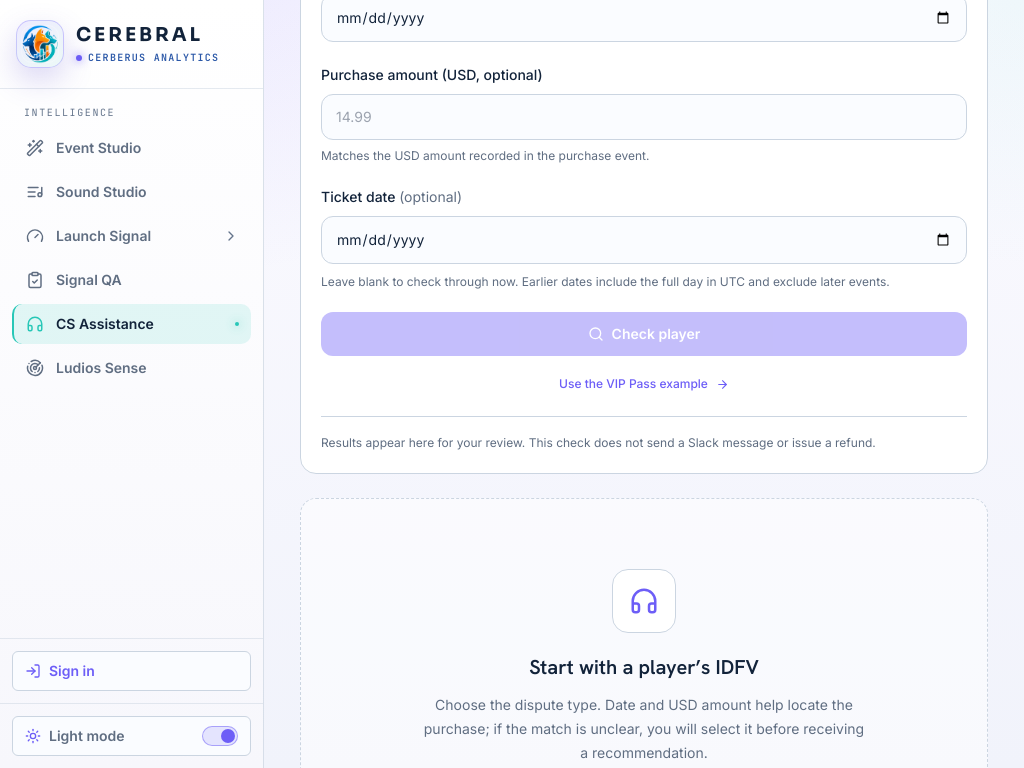
it: CS Assistance page › submits inputs, renders the recommendation, and switches to evidence and rules
The image size is (1024, 768).
(page scrolled)
Click the button "Use the VIP Pass example": (644, 384) [321,376,967,392]
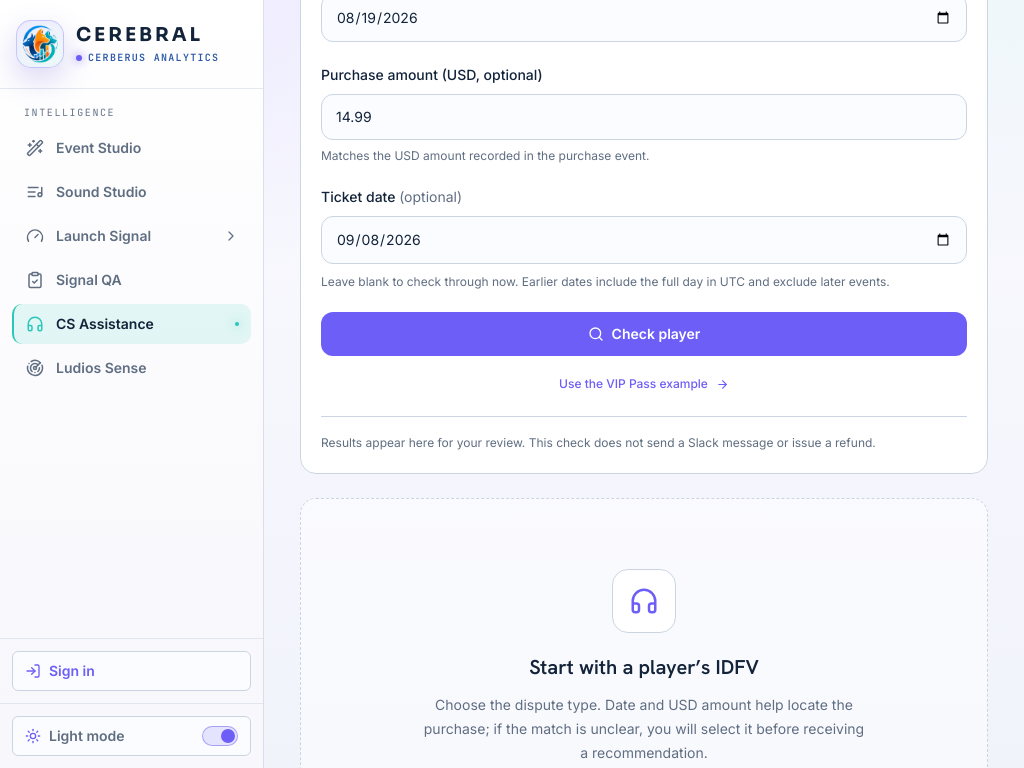
Click the button "Check player": (644, 334) [321,312,967,356]
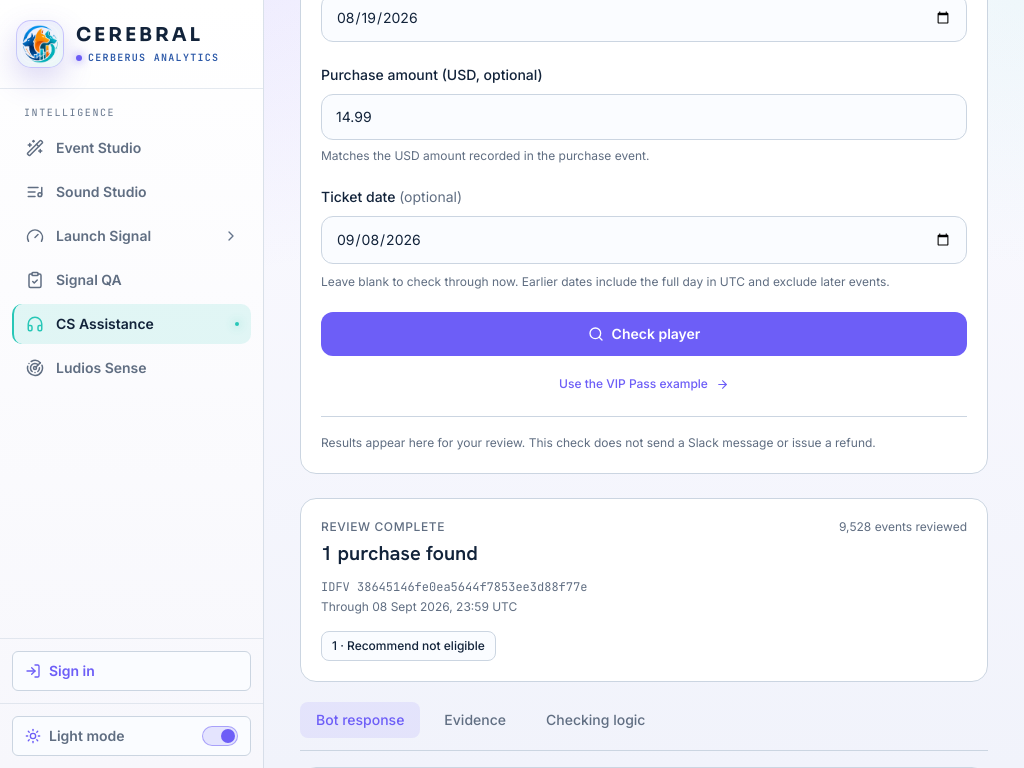
Check: the heading "1 purchase found" is shown, box [321,539,478,567]
Click the tab "Evidence": (475, 720) [428,702,522,738]
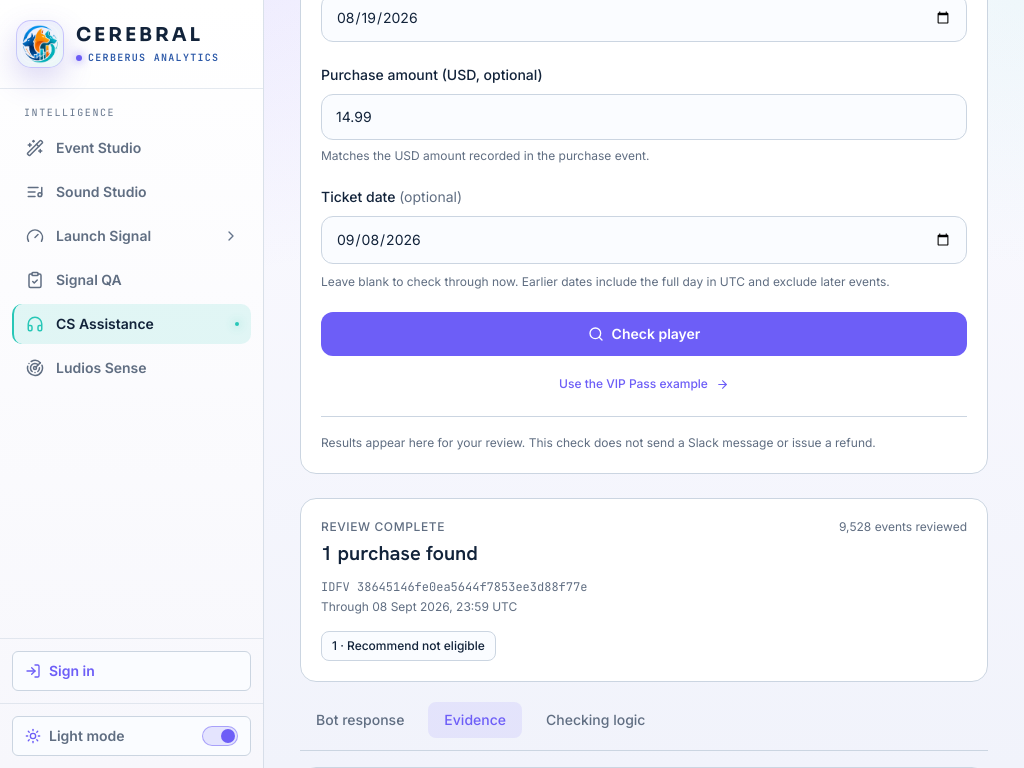
Click the tab "Checking logic": (596, 720) [530,702,662,738]
(page scrolled)
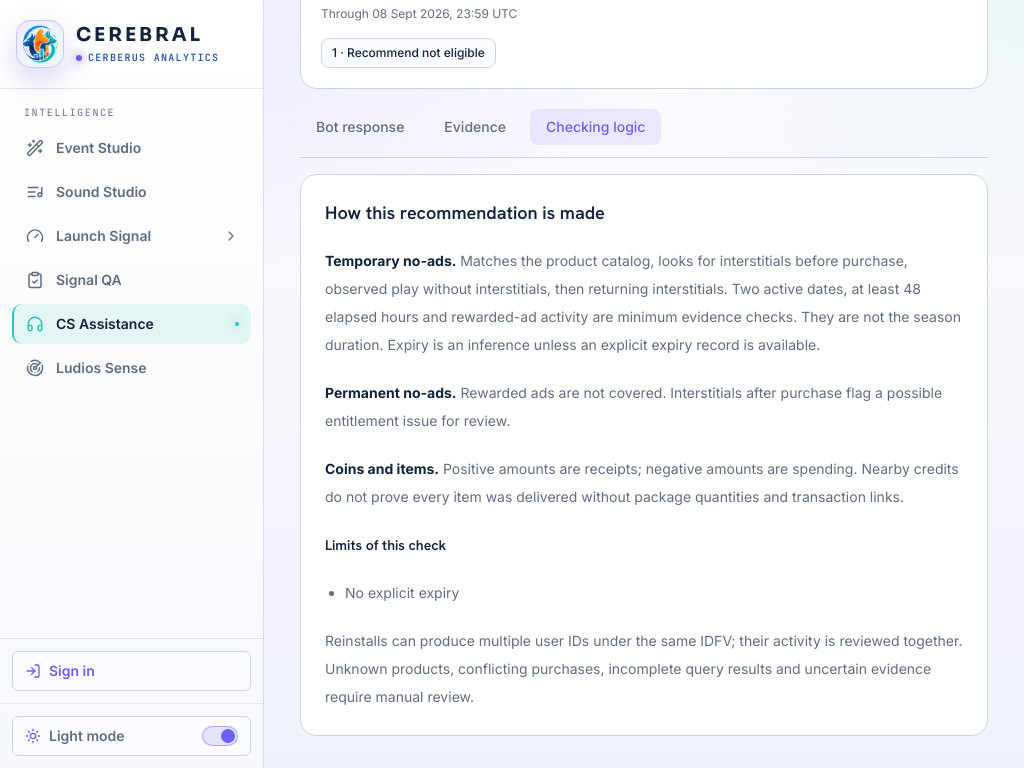
Check: the panel shows "48 elapsed hours", box [325,252,961,353]
